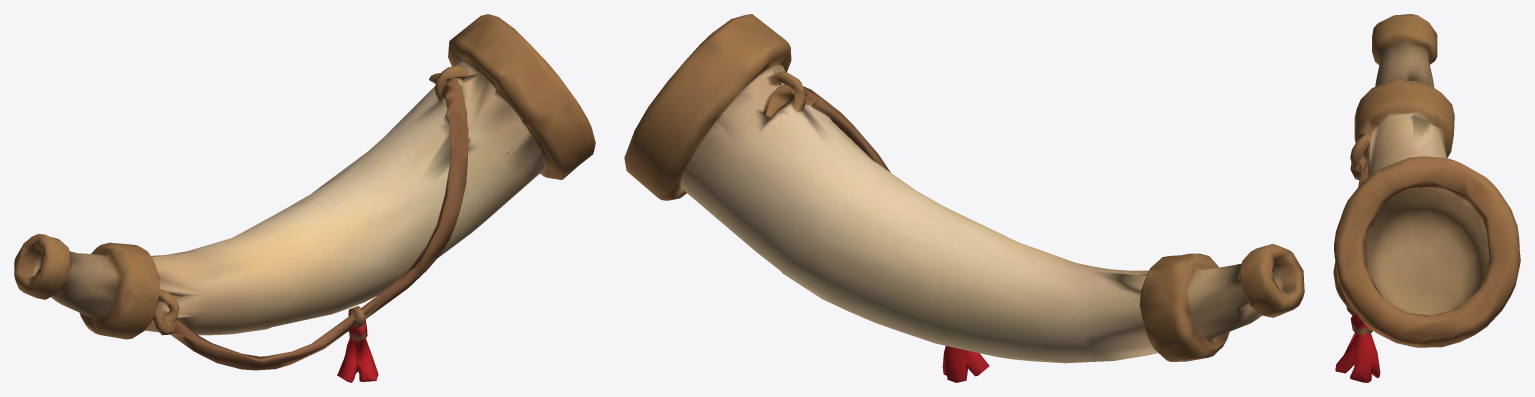
The model's file is skill_warhorn-CMNT_PRH.glb.
3 views of the same model, side by side, from view 1: azimuth 30°, elevation 25°; view 2: azimuth 150°, elevation 25°; view 3: azimuth 270°, elevation 25° (orthographic). The views are drawn at different scales.
Parts seen in each view (by area): view 1: tripo_node_92691afb-f83c-455c-8761-6adbb213602f; view 2: tripo_node_92691afb-f83c-455c-8761-6adbb213602f; view 3: tripo_node_92691afb-f83c-455c-8761-6adbb213602f.
Boxes of the visible parts, x1,y1,x2,y2 form: tripo_node_92691afb-f83c-455c-8761-6adbb213602f: [14, 14, 595, 382]; tripo_node_92691afb-f83c-455c-8761-6adbb213602f: [624, 14, 1304, 382]; tripo_node_92691afb-f83c-455c-8761-6adbb213602f: [1333, 14, 1520, 382].
Bounding box in the file's own units: 1 × 0.4951 × 0.2712.
1 material, 1 textured.
